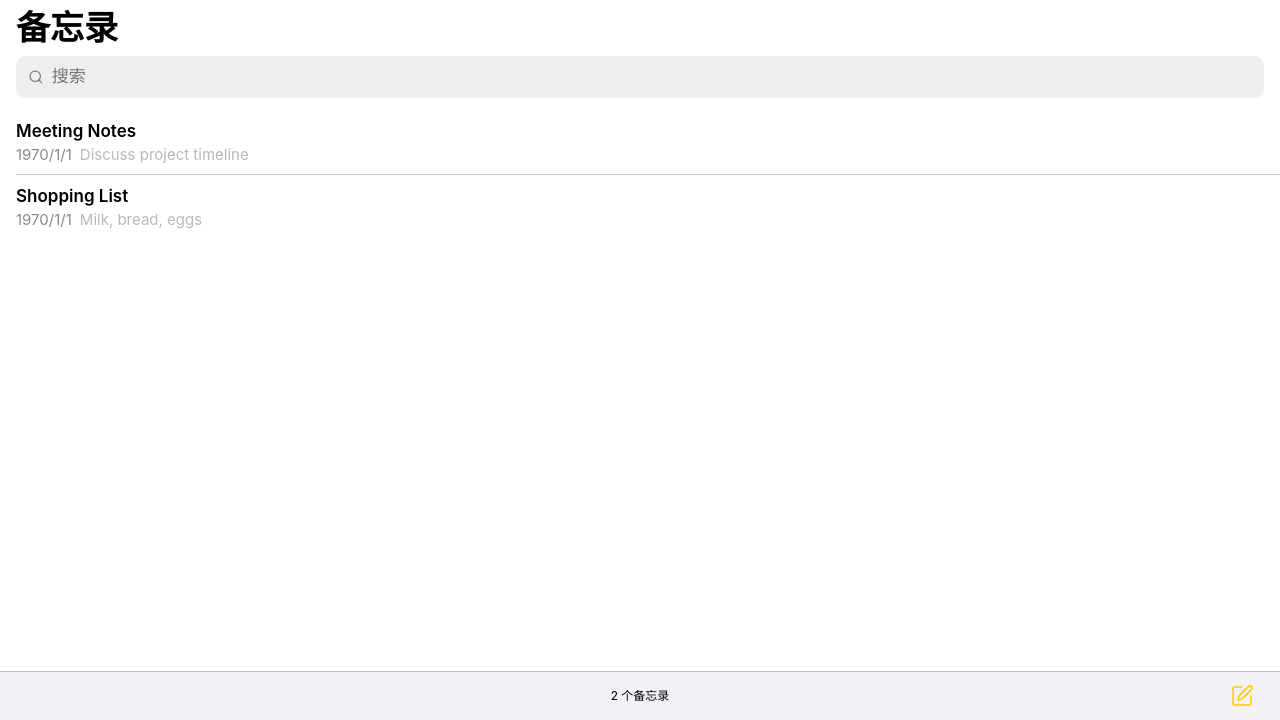
NotesApp › navigates to editor with empty fields on compose click
Click the button with test id "notes-compose". click: (1242, 696)
box: [1220,674,1264,718]
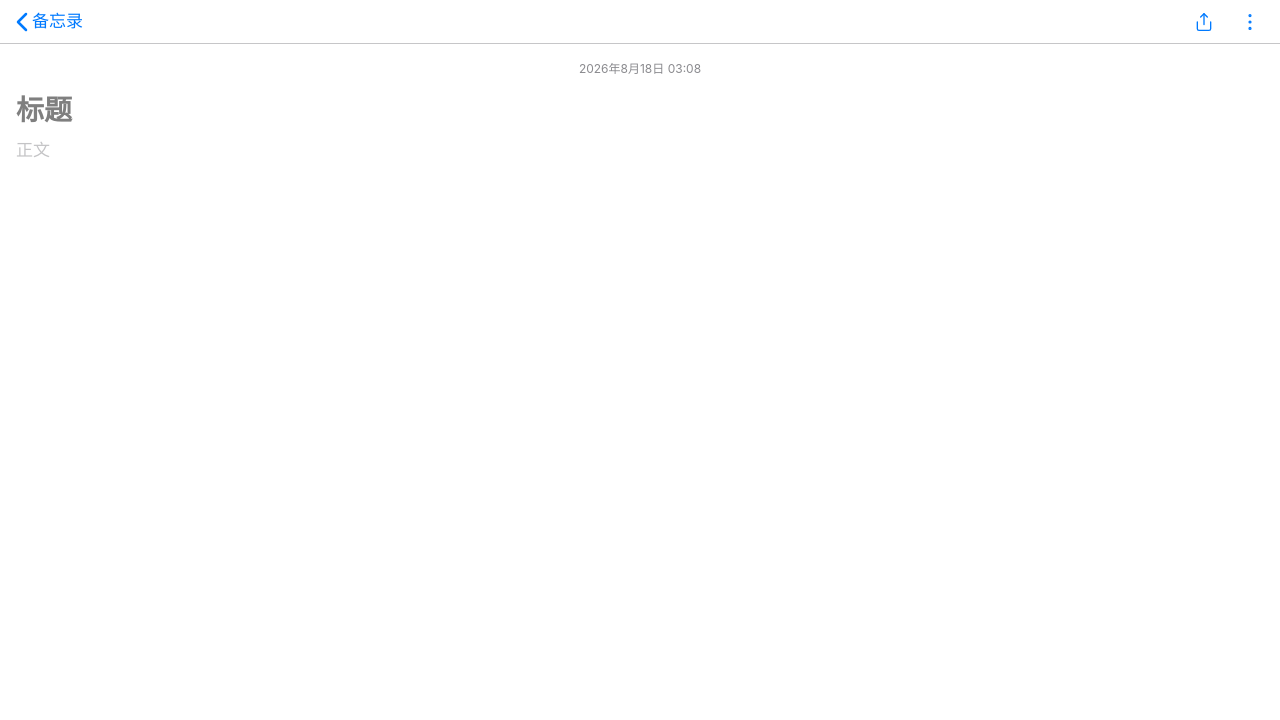
Expected: the element with test id "note-editor" is shown, [16,61,1264,128]
Expected: the field with test id "note-title-input" is empty, [16,94,1264,128]
